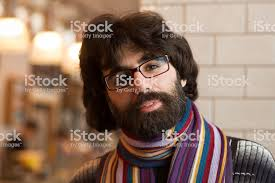Glasses: (97, 50, 177, 93)
